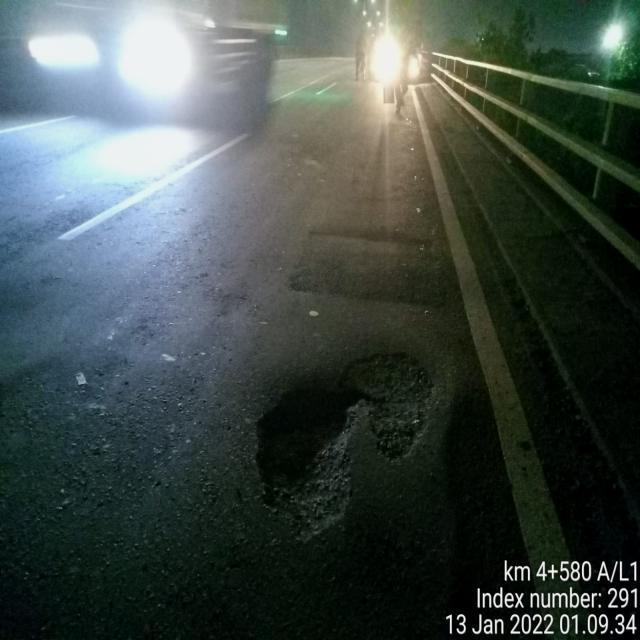Buraco: (250, 348, 438, 549)
